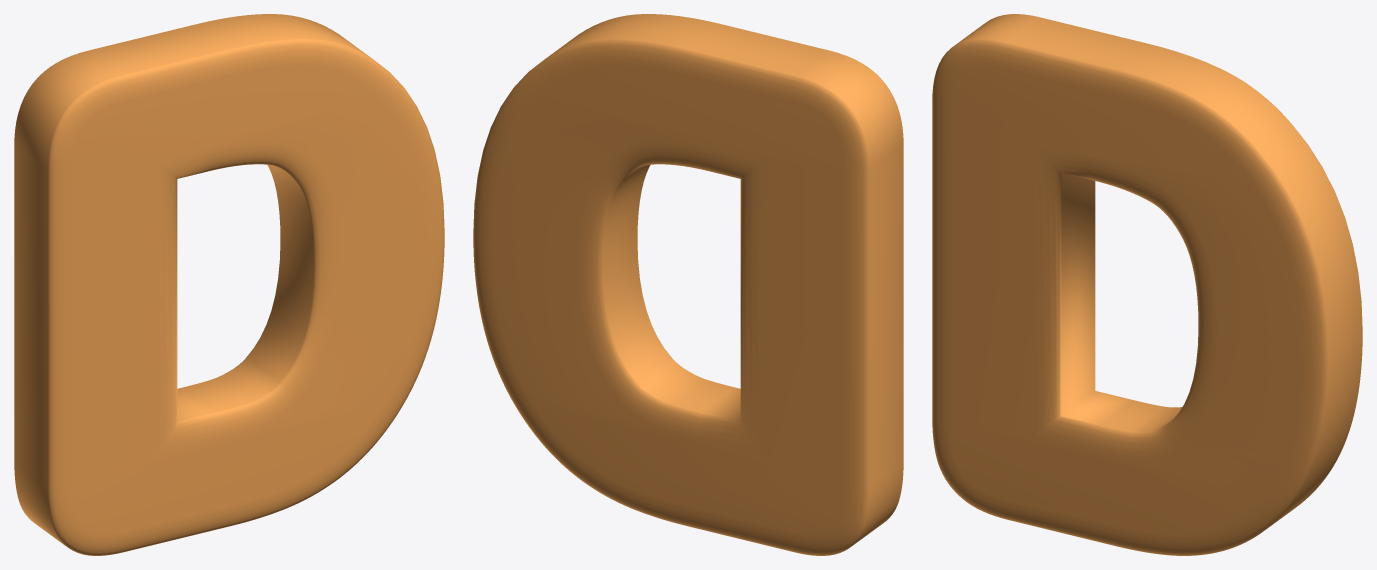
The model's file is RA_Letter_D.fbx.
The picture shows the model from 3 angles, left to right: view 1: azimuth 30°, elevation 25°; view 2: azimuth 150°, elevation 25°; view 3: azimuth 330°, elevation 25°; orthographic projection.
Parts seen in each view (by area): view 1: RA_Letter_D; view 2: RA_Letter_D; view 3: RA_Letter_D.
Boxes of the visible parts, <box> form: RA_Letter_D: <box>14,14,444,555</box>; RA_Letter_D: <box>473,14,903,555</box>; RA_Letter_D: <box>932,14,1362,555</box>.
Size of the model in its own units: 157 by 180 by 28.
